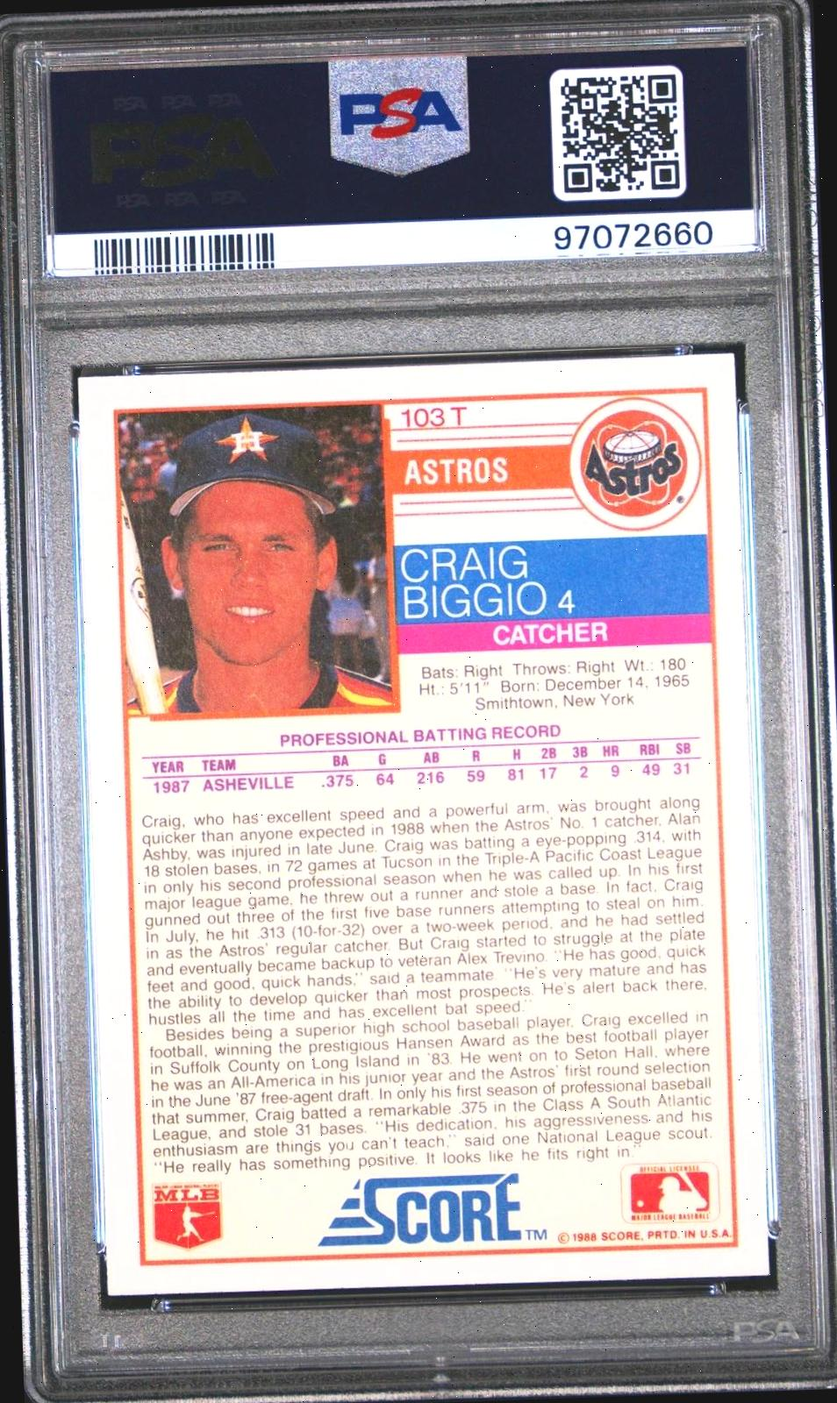card-2UtV: (76, 352, 770, 1297)
